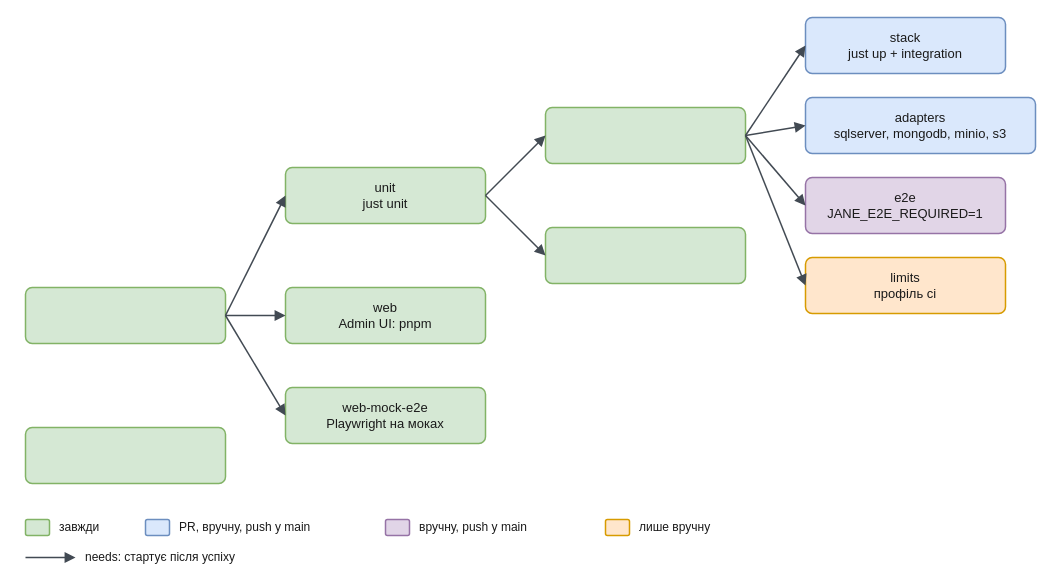
This 1054x585 diagram has some shape labels left out. Each missing label, with the centre of its shape:
"contract Redocly обов'язковий" goes at [645,135].
"contracts-compat compat.py + oasdiff" goes at [125,455].
"isolation пісочниця, Linux" goes at [645,255].
"lint ruff, mypy, gitleaks" goes at [125,315].
